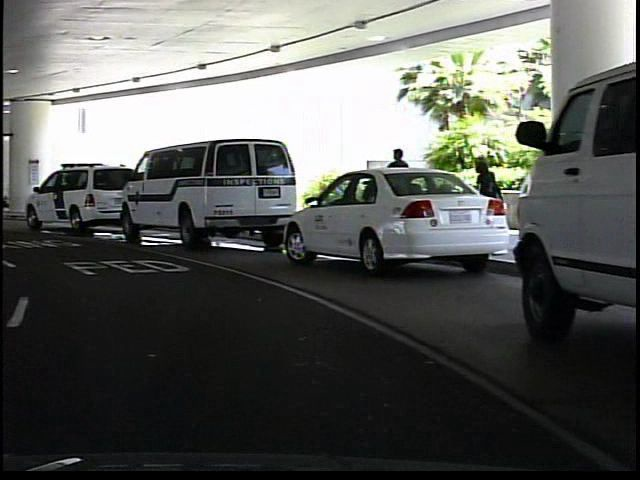person: (467, 154, 503, 243), (380, 144, 415, 235)
